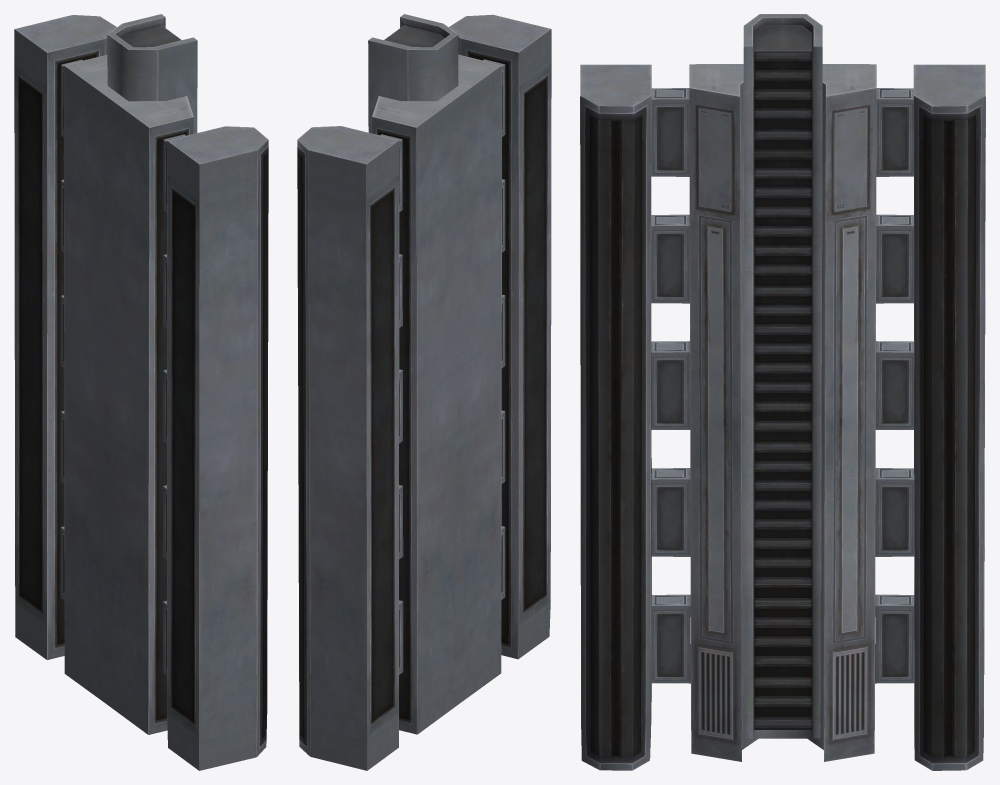
Rendered from all_item_imp_scaffold_elevator.glb.
3 renders of one model, left to right at view 1: azimuth 30°, elevation 25°; view 2: azimuth 150°, elevation 25°; view 3: azimuth 270°, elevation 25°, orthographic. The views are drawn at different scales.
Visible parts, largest first — view 1: all_item_imp_scaffold_elevator; view 2: all_item_imp_scaffold_elevator; view 3: all_item_imp_scaffold_elevator.
Part boxes in pixels (x1,y1,x2,y2): all_item_imp_scaffold_elevator: (14, 14, 268, 770); all_item_imp_scaffold_elevator: (297, 14, 551, 770); all_item_imp_scaffold_elevator: (580, 14, 985, 770).
Bounding box in the file's own units: 0.1284 × 1.02 × 0.5193.
1 material, 1 textured.
